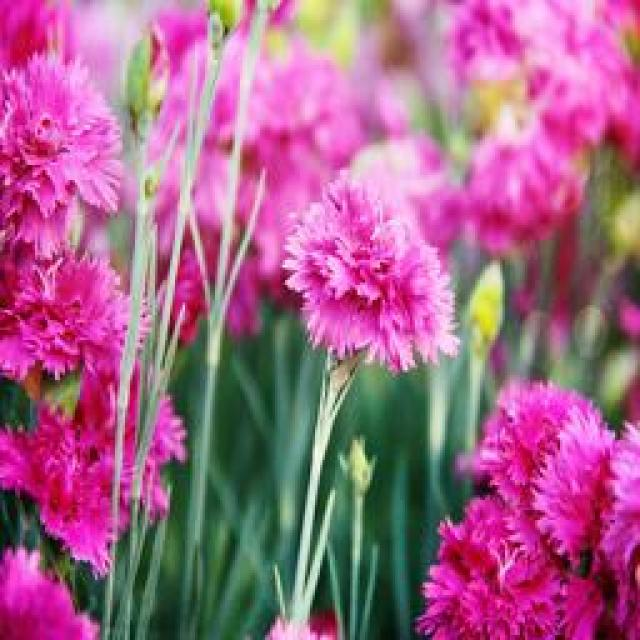carnation: (277, 188, 458, 378)
